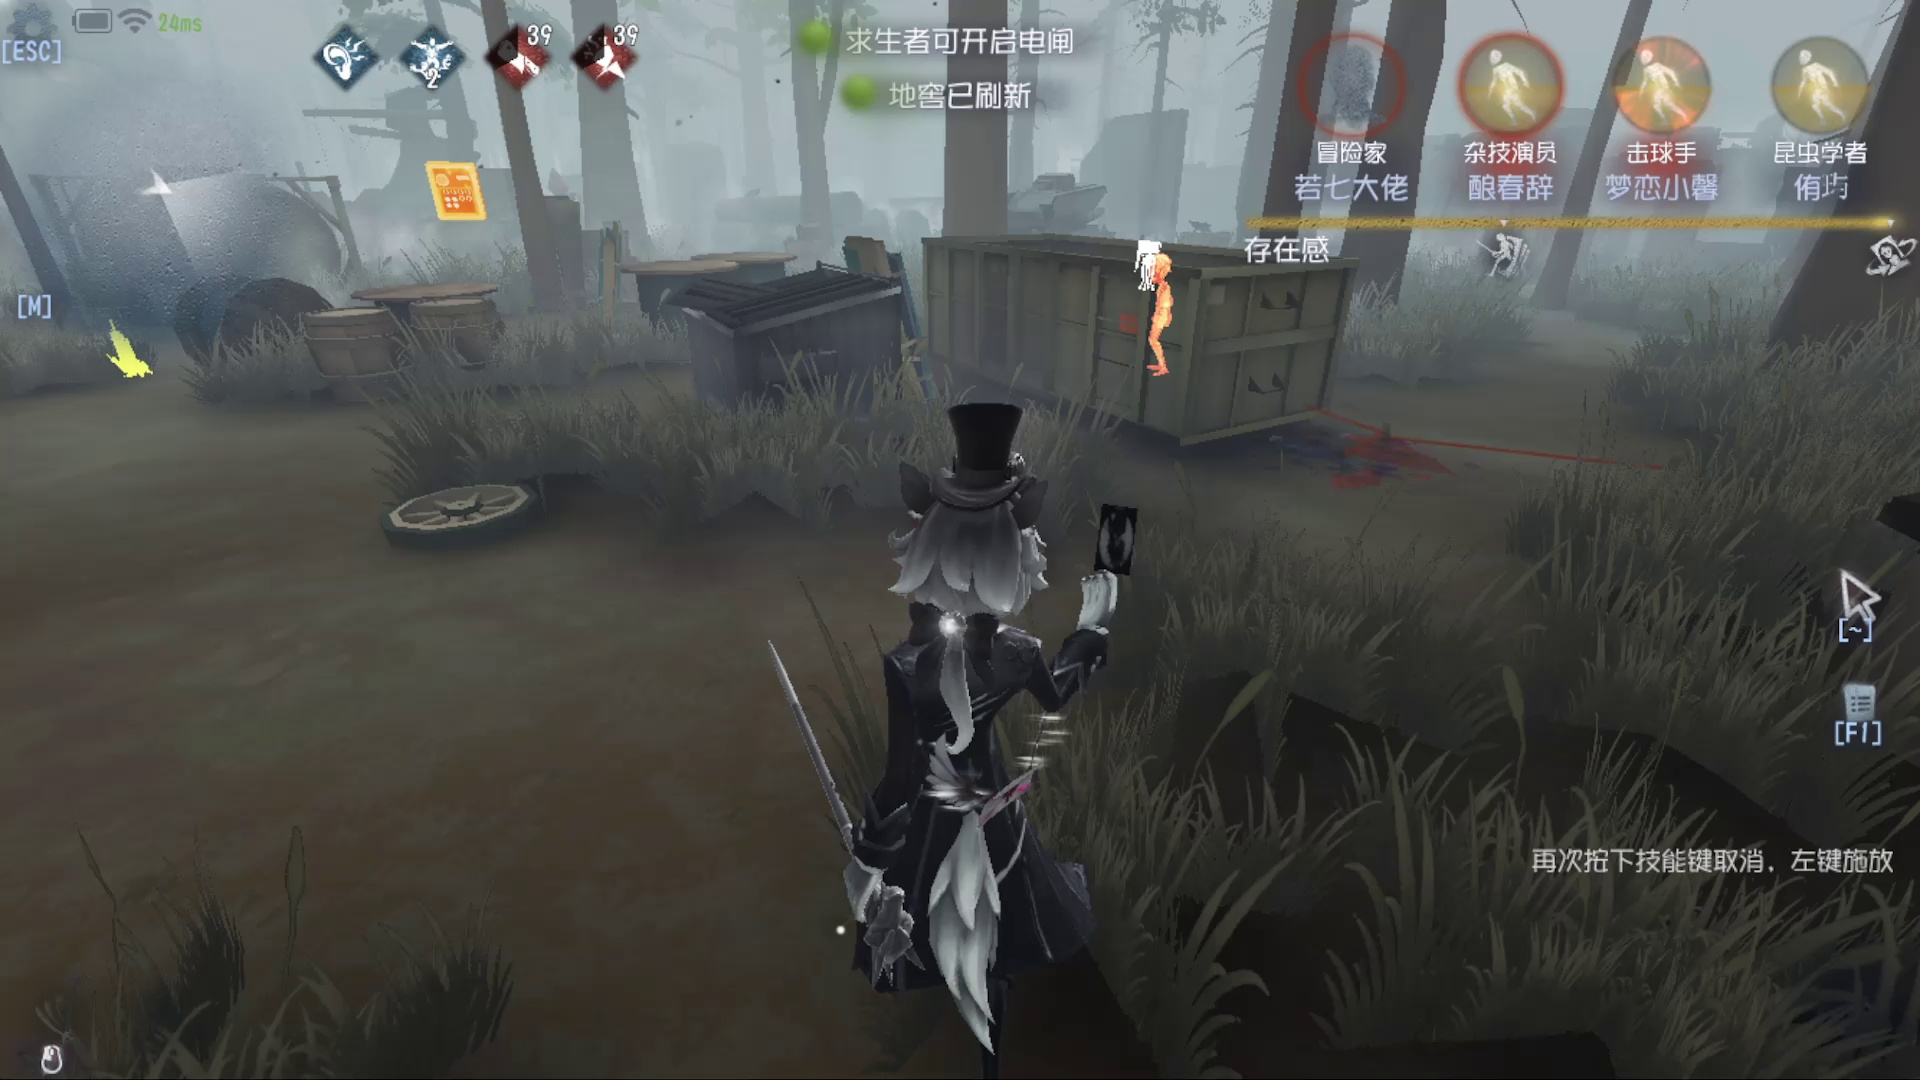木板: (837, 224, 943, 415), (579, 220, 641, 347)
求生者: (1126, 251, 1193, 392)
狂欢之椅: (98, 310, 164, 400)
脚印: (1346, 407, 1567, 541)
